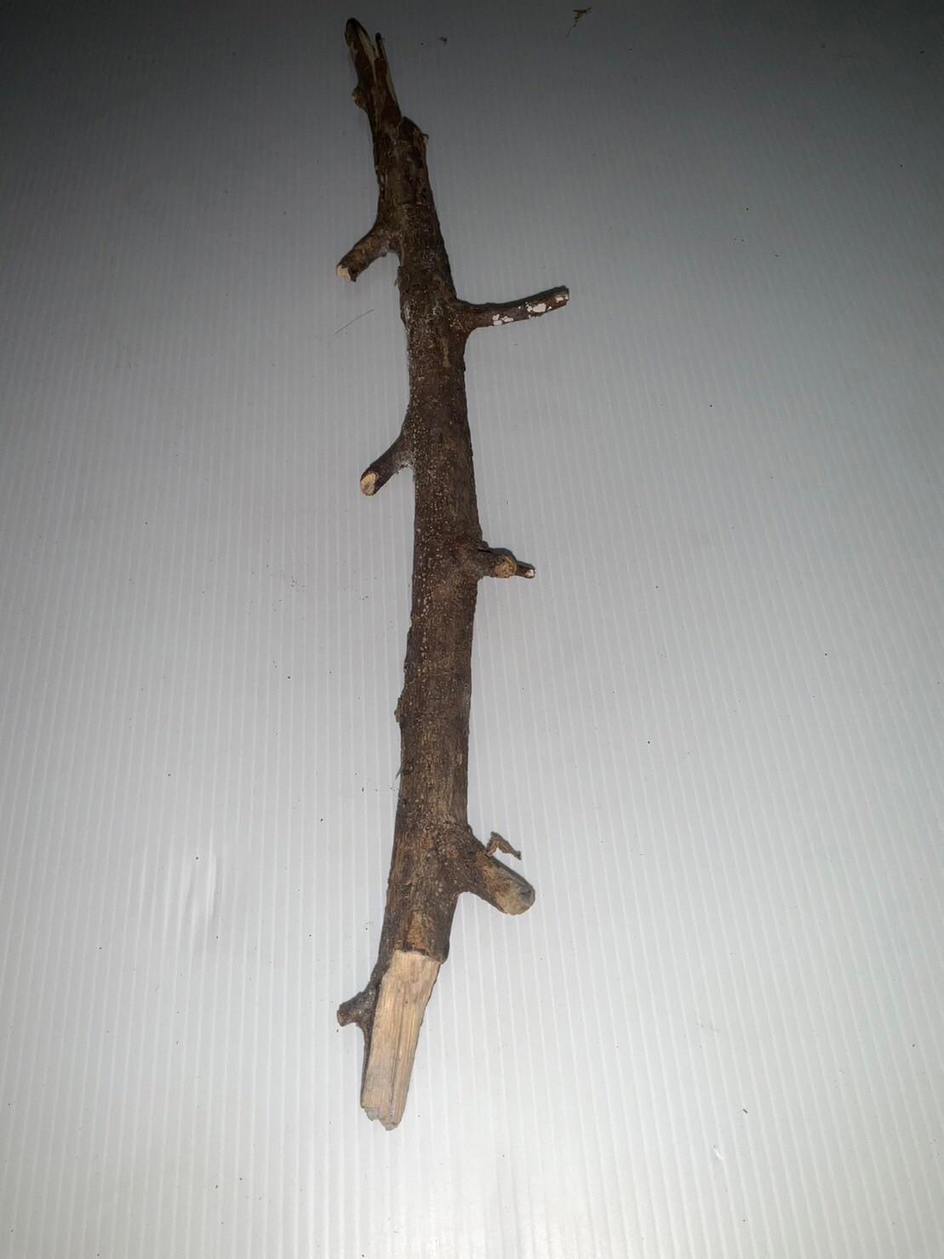General: (328, 14, 572, 1130)
Infectious: (477, 541, 535, 579)
